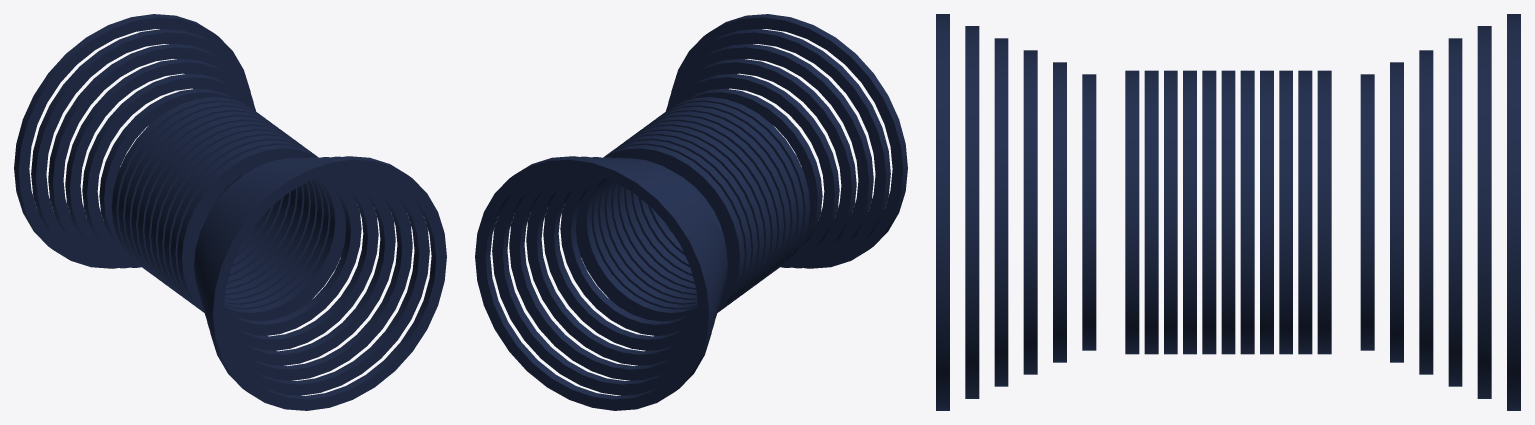
File: srw_coils.obj
3 views of the same model, side by side, from view 1: azimuth 30°, elevation 25°; view 2: azimuth 150°, elevation 25°; view 3: azimuth 270°, elevation 25° (orthographic). The views are drawn at different scales.
Parts seen in each view (by area): view 1: srw_coils; view 2: srw_coils; view 3: srw_coils.
Boxes of the visible parts, x1,y1,x2,y2 form: srw_coils: [14, 14, 446, 410]; srw_coils: [475, 14, 907, 410]; srw_coils: [936, 14, 1520, 410].
Bounding box in the file's own units: 2.85 × 2.85 × 4.2.
